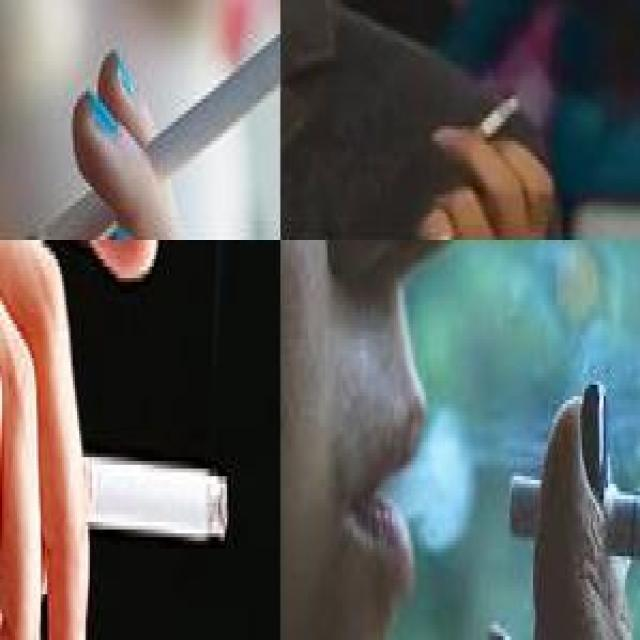smoking: (40, 0, 278, 236), (35, 448, 228, 542), (507, 468, 638, 586), (468, 90, 521, 136)
